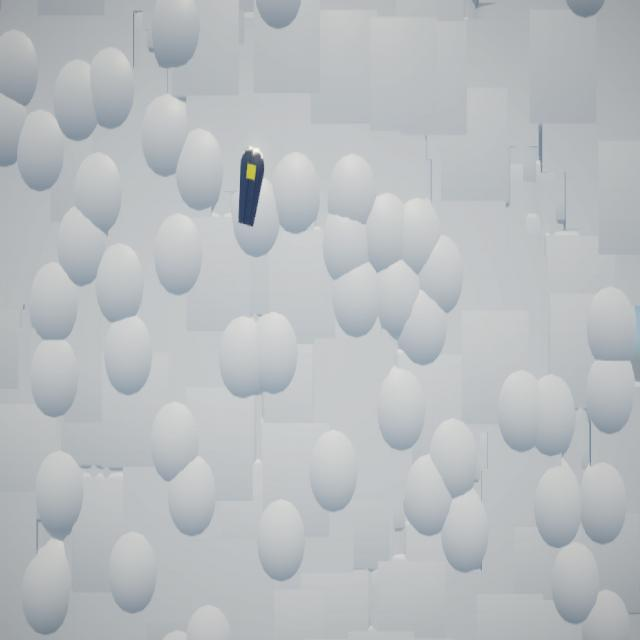handle_folk: (239, 149, 266, 229)
